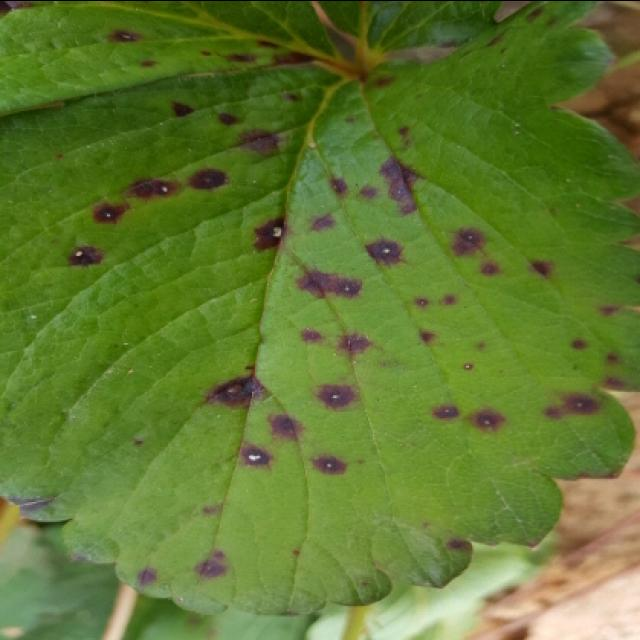Leaf Spot: (0, 2, 638, 618), (0, 2, 353, 118)
